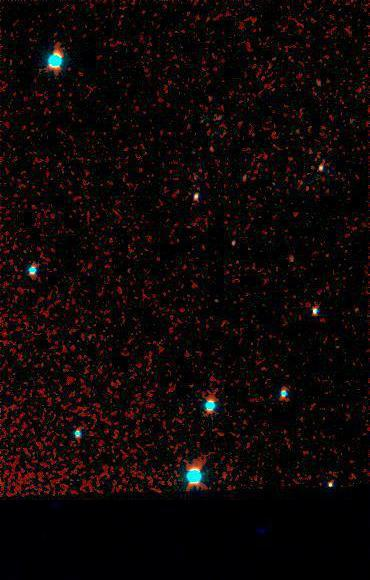star: (197, 82, 227, 112)
